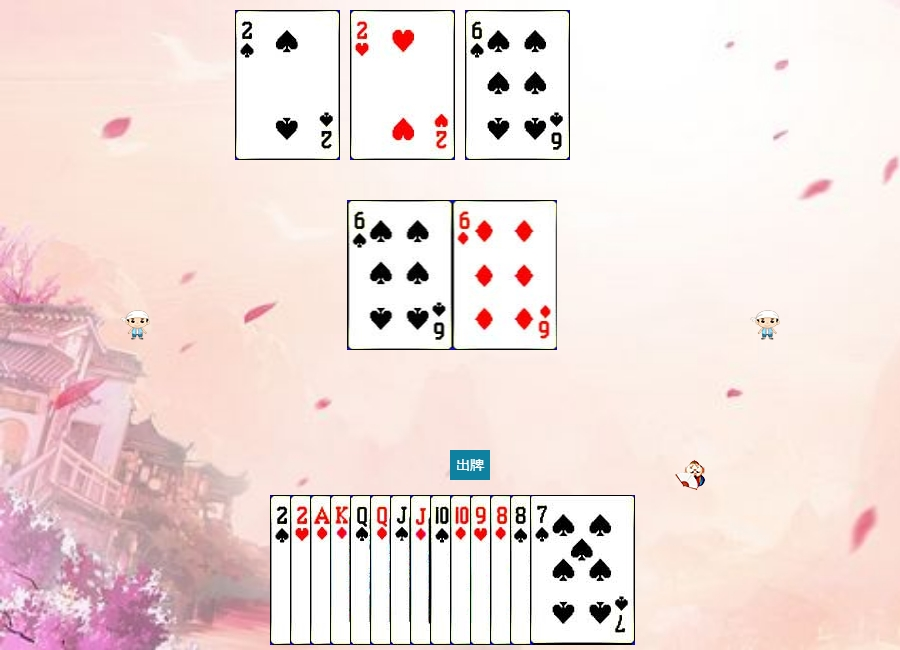10~1: (450, 495, 555, 645)
10~4: (430, 495, 535, 645)
11~1: (410, 495, 515, 645)
11~4: (390, 495, 495, 645)
12~1: (370, 495, 475, 645)
12~4: (350, 495, 455, 645)
13~1: (330, 495, 435, 645)
14~1: (310, 495, 415, 645)
15~3: (350, 10, 455, 160), (290, 495, 395, 645)
15~4: (235, 10, 340, 160), (270, 495, 375, 645)
6~1: (453, 200, 558, 350)
6~4: (465, 10, 570, 160), (348, 200, 453, 350)
7~4: (530, 495, 635, 645)
8~1: (490, 495, 595, 645)
8~4: (510, 495, 615, 645)
9~3: (470, 495, 575, 645)
